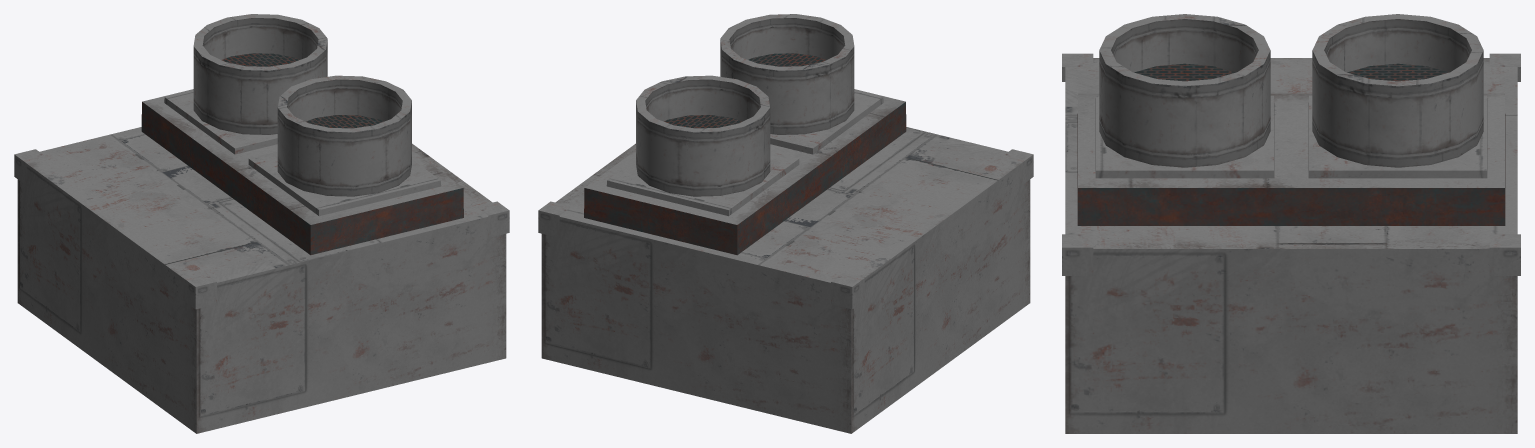
File: ARC0910224.fbx
3 views of the same model, side by side, from view 1: azimuth 30°, elevation 25°; view 2: azimuth 150°, elevation 25°; view 3: azimuth 270°, elevation 25° (orthographic). The views are drawn at different scales.
Parts seen in each view (by area): view 1: smARC0910224; view 2: smARC0910224; view 3: smARC0910224.
Boxes of the visible parts, <box> form: smARC0910224: <box>14,14,509,433</box>; smARC0910224: <box>538,14,1033,433</box>; smARC0910224: <box>1062,14,1520,433</box>.
Bounding box in the file's own units: 406 × 306 × 406.
Materials: 1 (1 with a texture image).
